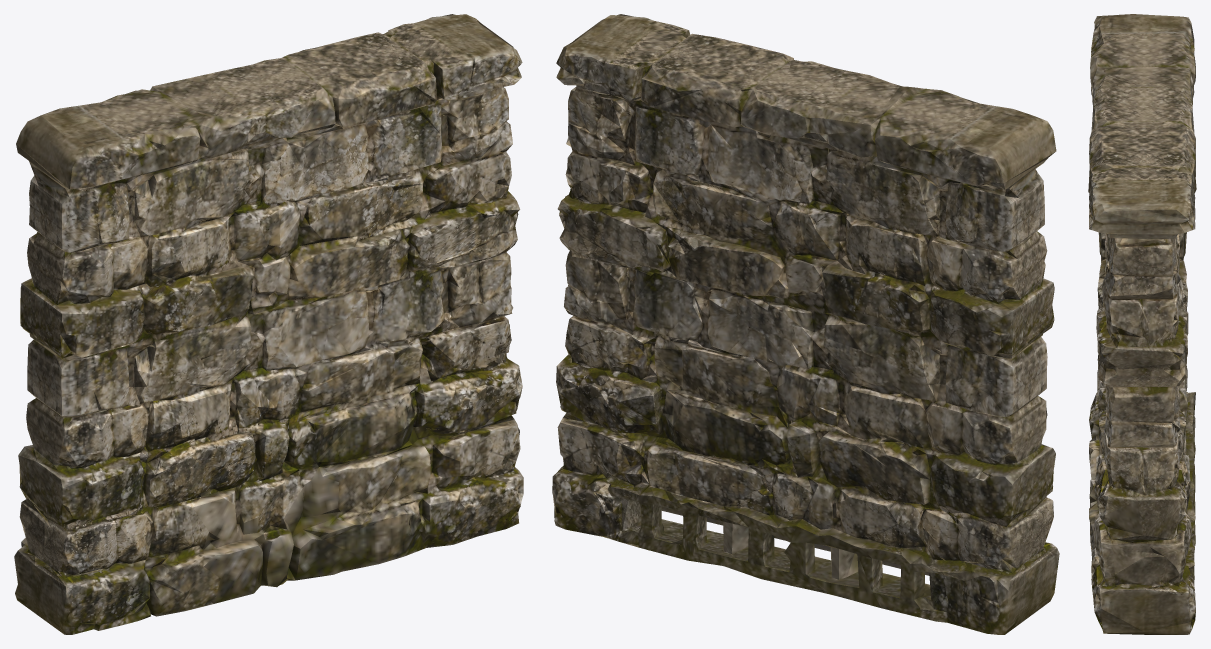
Rendered from wall_tall.glb.
3 views of the same model, side by side, from view 1: azimuth 30°, elevation 25°; view 2: azimuth 150°, elevation 25°; view 3: azimuth 270°, elevation 25° (orthographic). The views are drawn at different scales.
Parts seen in each view (by area): view 1: wall_tall; view 2: wall_tall; view 3: wall_tall.
Boxes of the visible parts, <box> form: wall_tall: <box>14,14,523,634</box>; wall_tall: <box>552,14,1059,634</box>; wall_tall: <box>1088,14,1196,634</box>.
Size of the model in its own units: 1.9 by 1.9 by 0.4324.
1 material, 1 textured.
